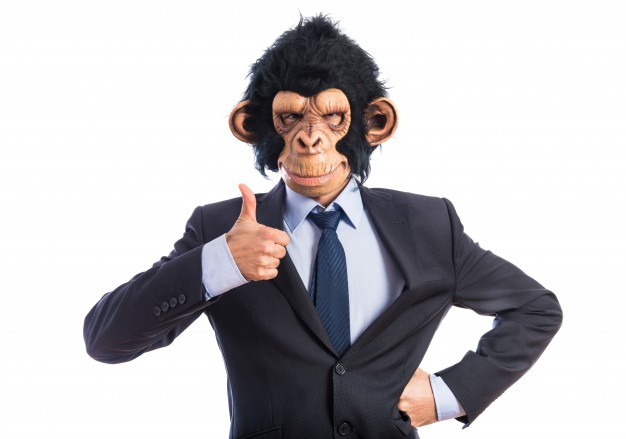thumbsup: (238, 182, 290, 281)
